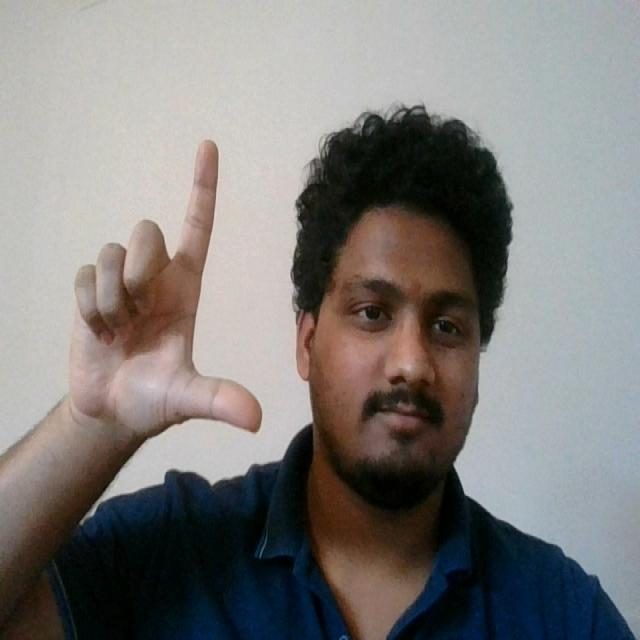IloveYou: (62, 132, 272, 462)
